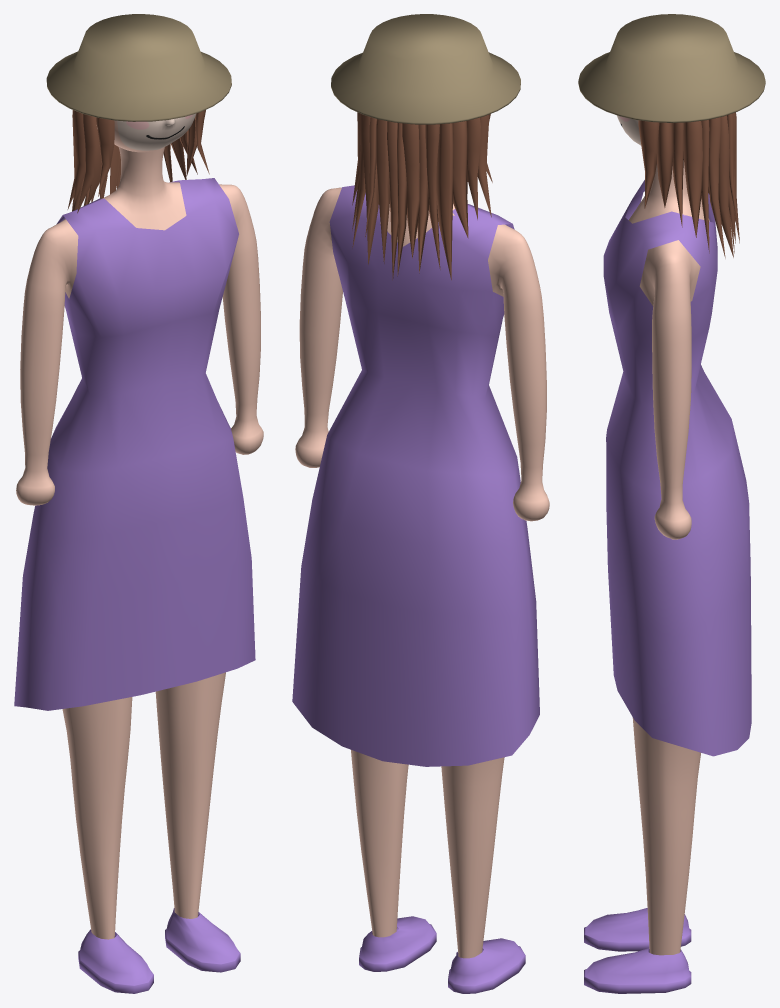
Rendered from NPCVRGame.fbx.
The picture shows the model from 3 angles, left to right: view 1: azimuth 30°, elevation 25°; view 2: azimuth 150°, elevation 25°; view 3: azimuth 270°, elevation 25°; orthographic projection. The views are drawn at different scales.
Visible parts, largest first — view 1: NPC_LOD0; view 2: NPC_LOD0; view 3: NPC_LOD0.
Part boxes in pixels (<box>): NPC_LOD0: <box>14,14,263,993</box>; NPC_LOD0: <box>292,14,549,993</box>; NPC_LOD0: <box>578,14,765,993</box>.
Size of what is drawn, in the model's own units: 185 by 662 by 122.
5 materials, 1 textured.
